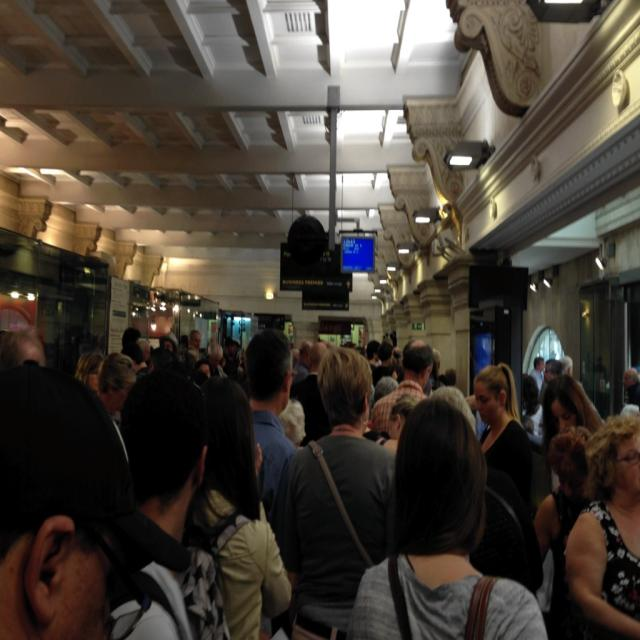body: (1, 306, 546, 442), (340, 394, 551, 639), (100, 365, 231, 640), (0, 366, 130, 640), (278, 344, 397, 640), (189, 375, 294, 640), (562, 410, 640, 640), (230, 326, 302, 520), (532, 429, 594, 638), (472, 361, 533, 517), (541, 374, 605, 494), (369, 336, 437, 438), (541, 358, 564, 503), (558, 355, 598, 433), (621, 366, 640, 406), (528, 356, 547, 392)
